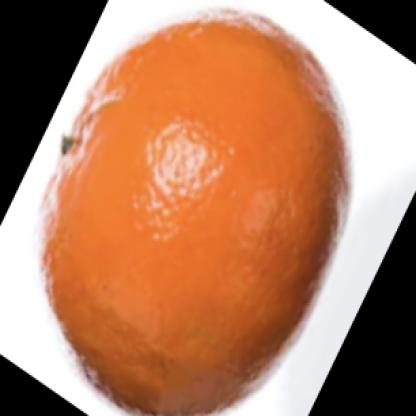fresh: (42, 13, 351, 416)
